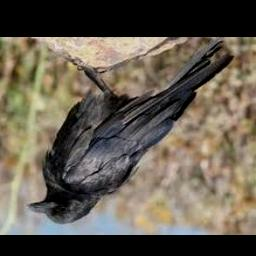Crow: (26, 37, 234, 225)
